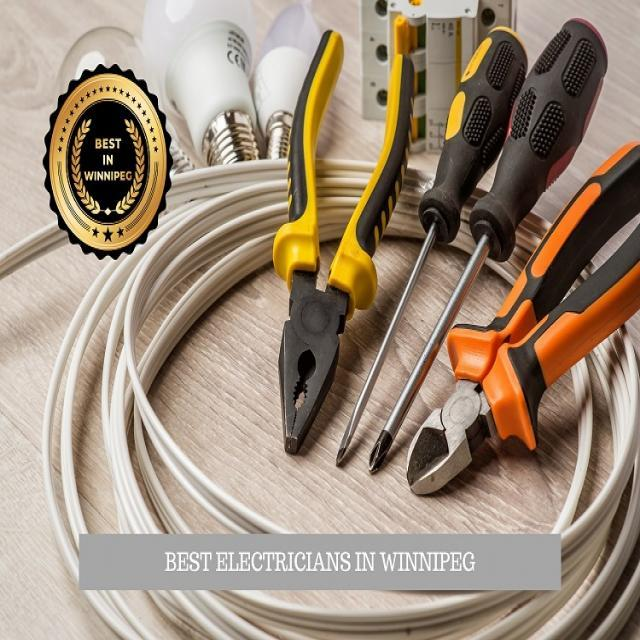screwdriver: (364, 12, 614, 481), (330, 19, 534, 474)
